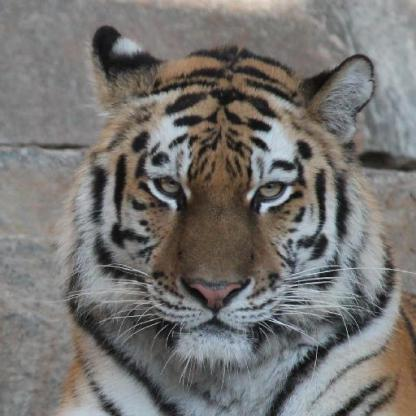tiger: (70, 26, 363, 356)
